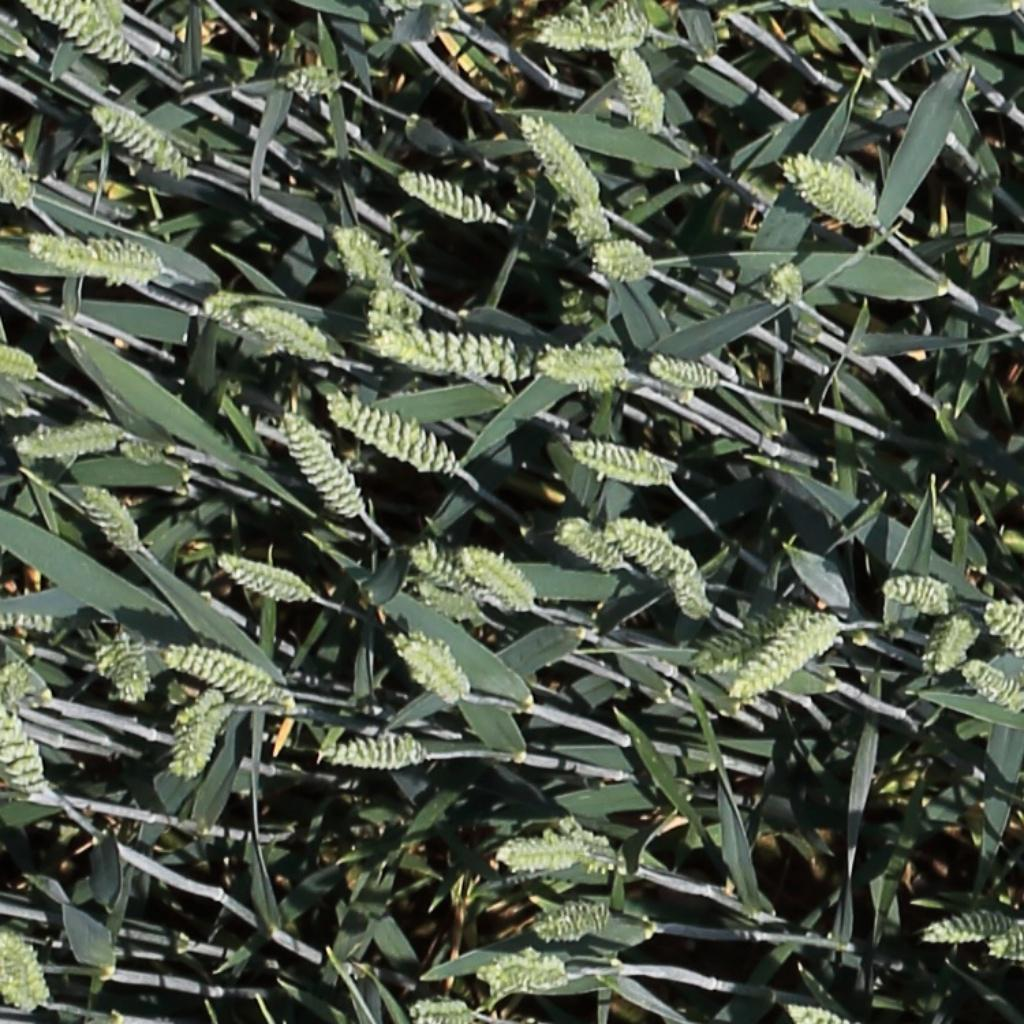0-0: (776, 136, 886, 254), (16, 228, 185, 296), (329, 394, 460, 475), (730, 610, 839, 697), (281, 410, 364, 518), (378, 326, 540, 380), (518, 107, 598, 206), (0, 622, 46, 793), (91, 101, 187, 173), (475, 951, 584, 1010), (172, 649, 282, 707), (32, 0, 132, 62), (262, 303, 365, 362), (535, 1, 658, 47), (525, 899, 622, 957), (393, 634, 465, 705), (79, 480, 144, 557), (398, 169, 498, 219), (619, 521, 711, 574), (364, 274, 424, 355), (615, 40, 664, 136), (461, 547, 535, 610), (217, 554, 312, 602), (177, 697, 230, 782), (570, 441, 673, 483), (0, 927, 50, 1010), (13, 414, 119, 453), (330, 219, 389, 289), (323, 730, 433, 767), (94, 628, 148, 703), (540, 337, 627, 383), (410, 544, 480, 598), (922, 903, 1022, 940), (584, 245, 655, 297), (481, 837, 584, 871), (202, 283, 259, 341), (916, 497, 974, 553), (929, 613, 978, 679), (558, 522, 626, 569), (963, 662, 1024, 712), (666, 566, 715, 623), (983, 599, 1024, 664), (415, 582, 481, 621), (563, 206, 627, 244), (568, 820, 615, 870), (122, 408, 162, 465), (0, 133, 31, 204), (886, 580, 955, 611), (651, 356, 724, 385), (0, 659, 30, 720), (775, 255, 808, 307), (0, 334, 39, 376), (789, 1003, 847, 1024), (283, 69, 338, 91), (410, 1004, 475, 1021), (95, 0, 126, 34), (0, 615, 55, 630), (984, 940, 1024, 958)
